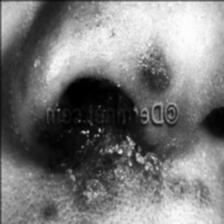Toxin: (36, 74, 136, 180)
